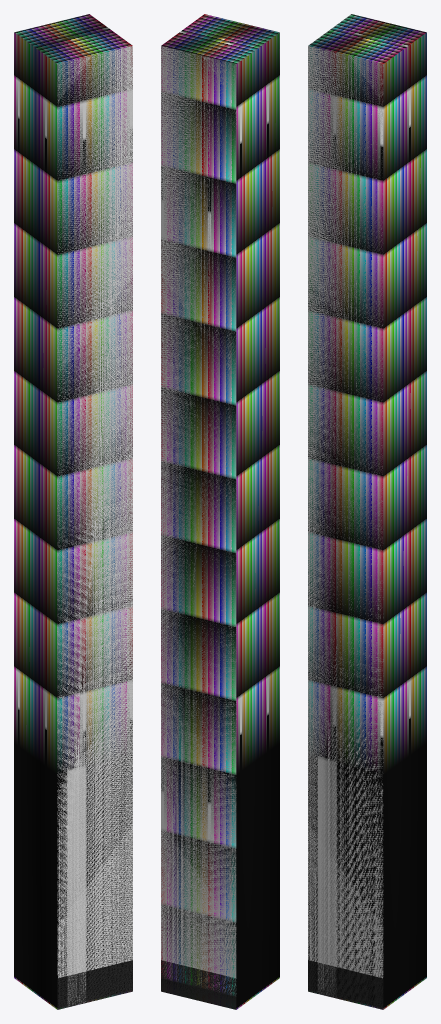
The model's file is interiorWall_line_q_white.fbx.
3 renders of one model, left to right at view 1: azimuth 30°, elevation 25°; view 2: azimuth 150°, elevation 25°; view 3: azimuth 330°, elevation 25°, orthographic.
Visible parts, largest first — view 1: interiorWall_line_q_trigger_white, interiorWall_line_q_white; view 2: interiorWall_line_q_trigger_white, interiorWall_line_q_white; view 3: interiorWall_line_q_trigger_white, interiorWall_line_q_white.
Part boxes in pixels (x1,y1,x2,y2): interiorWall_line_q_trigger_white: [14, 14, 132, 1009]; interiorWall_line_q_white: [57, 46, 132, 1009]; interiorWall_line_q_trigger_white: [161, 14, 279, 1009]; interiorWall_line_q_white: [161, 46, 236, 1009]; interiorWall_line_q_trigger_white: [308, 14, 426, 1009]; interiorWall_line_q_white: [308, 46, 383, 1009].
Size of what is drawn, in the model's own units: 25 by 300 by 25.
